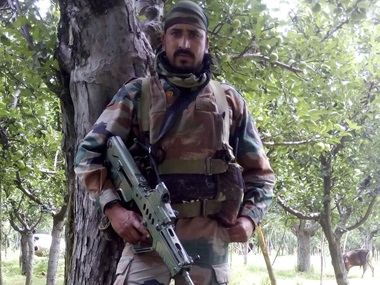Rifle: (103, 133, 198, 285)
